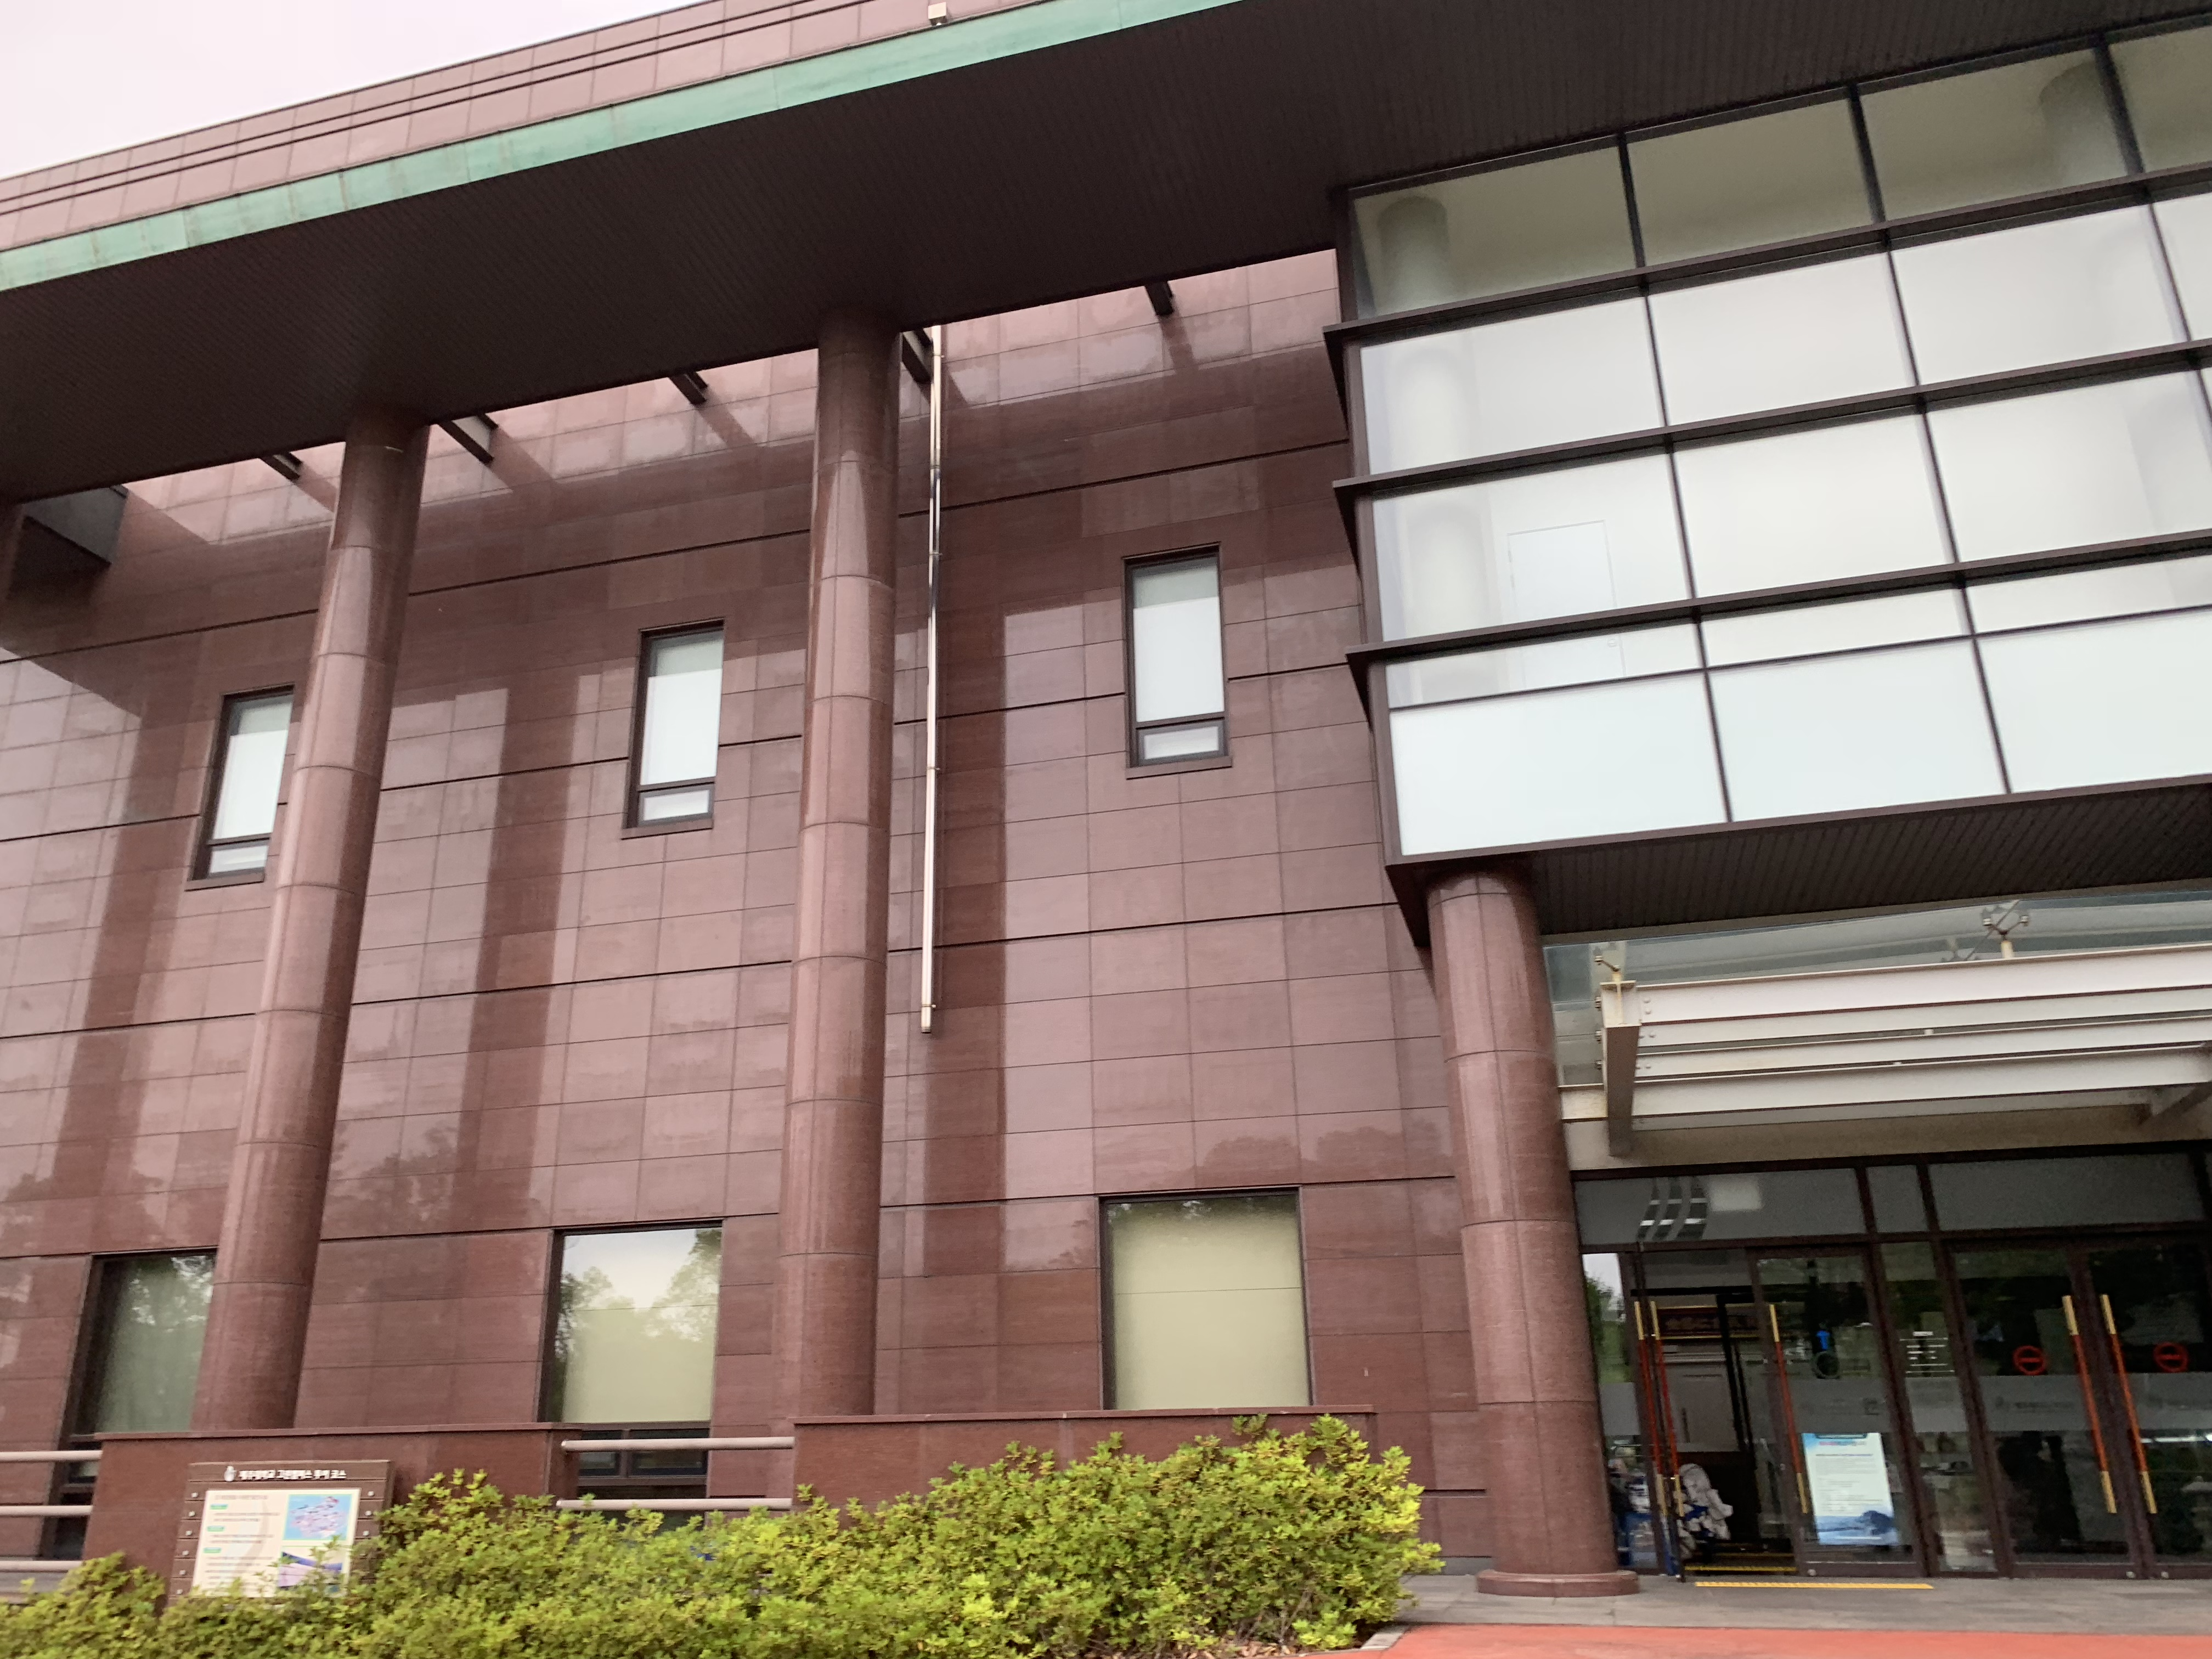Museum: (127, 258, 1487, 1513), (1306, 159, 2130, 1586)
